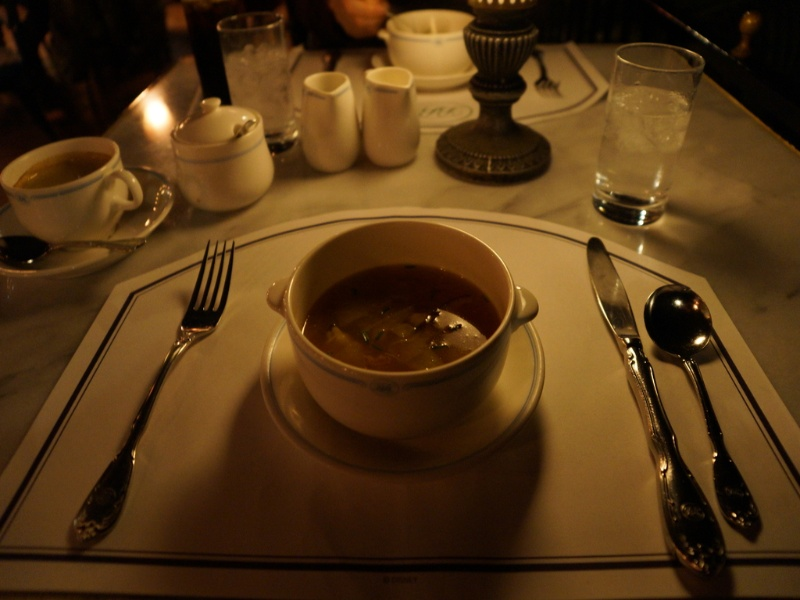cup: (266, 214, 538, 428), (4, 132, 144, 233), (366, 6, 477, 80)
